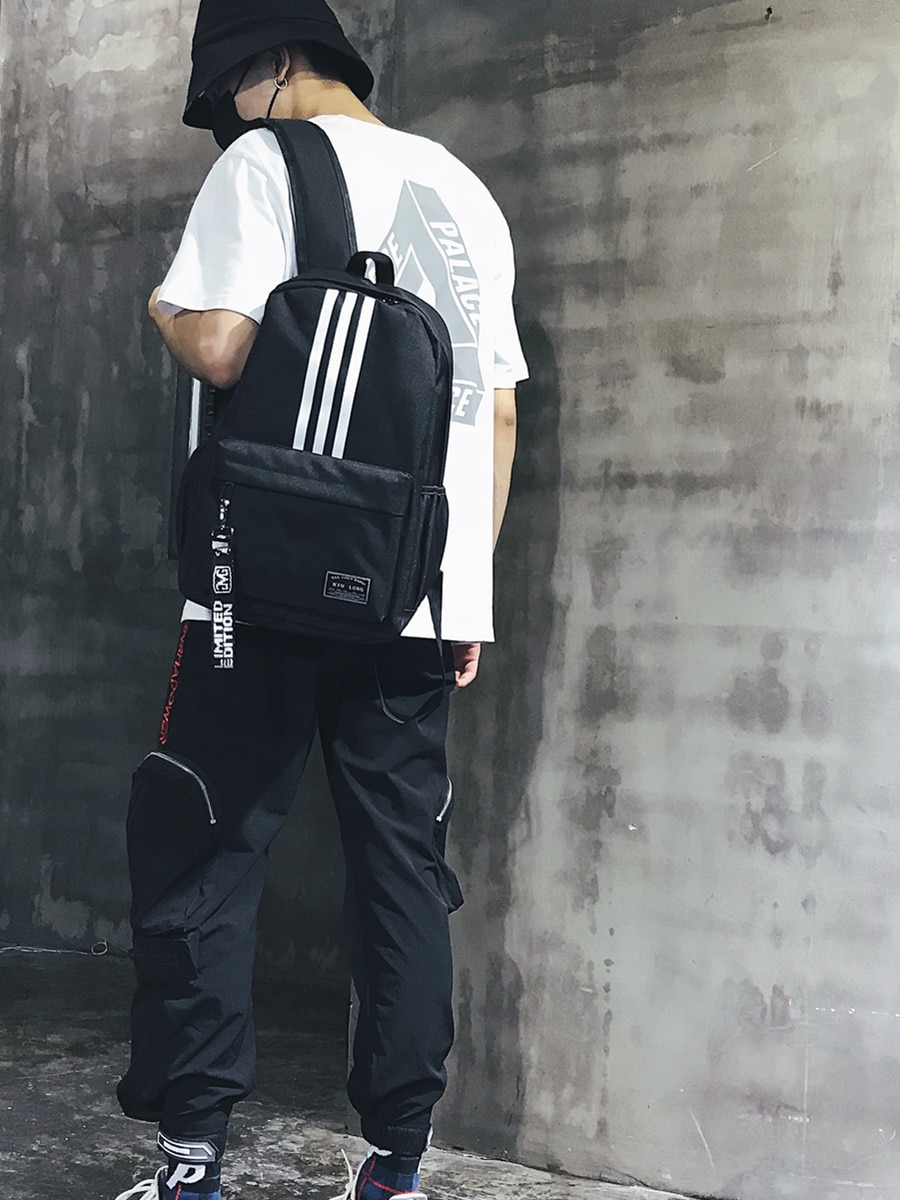Accessories|Hats: (183, 1, 379, 127)
Bottoms|Pants: (126, 630, 470, 1156)
Men's Backpacks: (177, 119, 457, 632)
Tops|T-shirts & Tanks: (148, 114, 530, 647)
